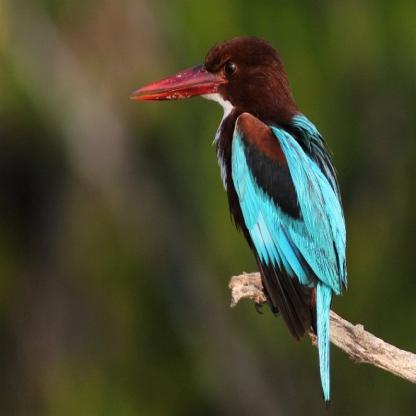Burung: (129, 35, 348, 404)
